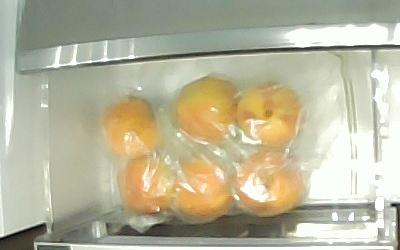peach_vinyl: (233, 149, 301, 216), (233, 80, 301, 144), (175, 77, 240, 142), (173, 156, 235, 219), (101, 96, 162, 158), (116, 158, 174, 215)
